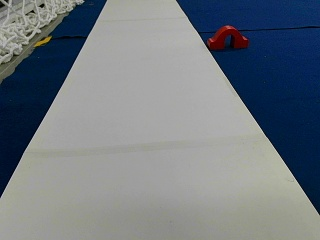bridge: (208, 25, 248, 48)
